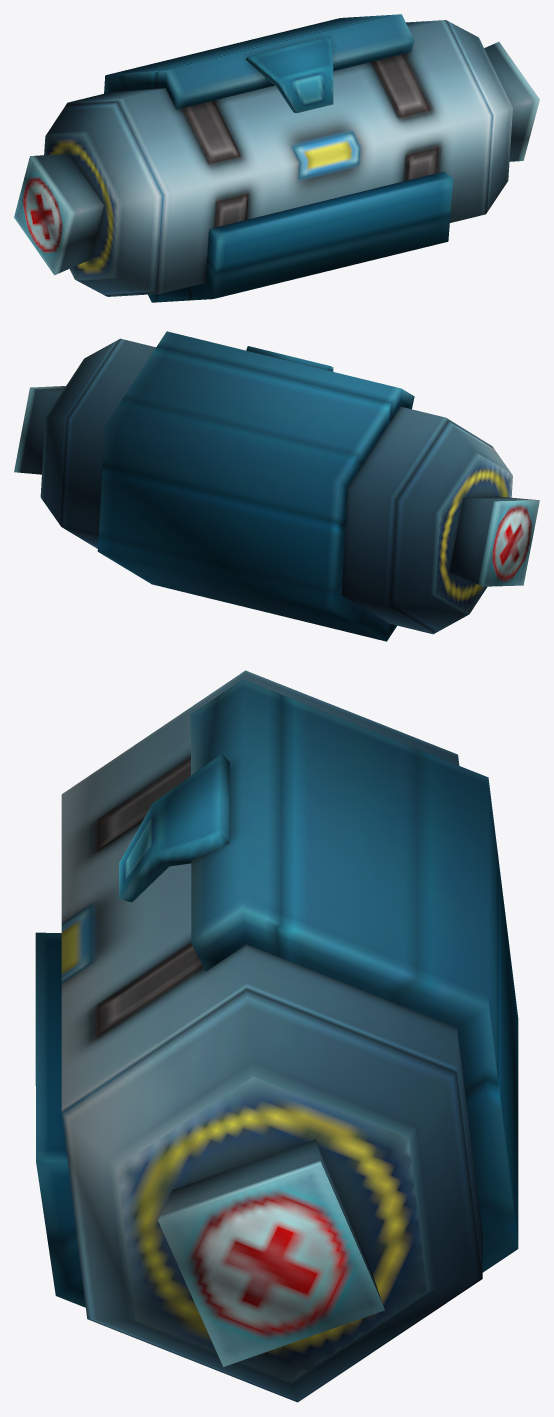
File: Avatar_Cowboy_H_C_01_d42fd874__Avatar_Doctress_C_01_76b9a94f_c1f257.obj
The picture shows the model from 3 angles, top to bottom: view 1: azimuth 30°, elevation 25°; view 2: azimuth 150°, elevation 25°; view 3: azimuth 270°, elevation 25°; orthographic projection. The views are drawn at different scales.
Size of the model in its own units: 0.6414 by 0.3166 by 0.2858.
1 material, 1 textured.
